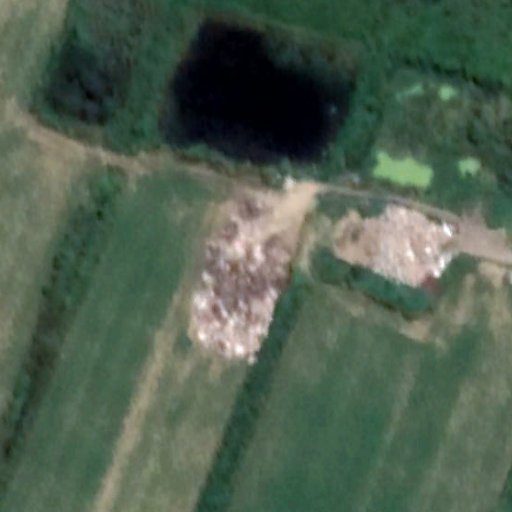msw: (188, 186, 303, 358), (332, 204, 461, 282)
